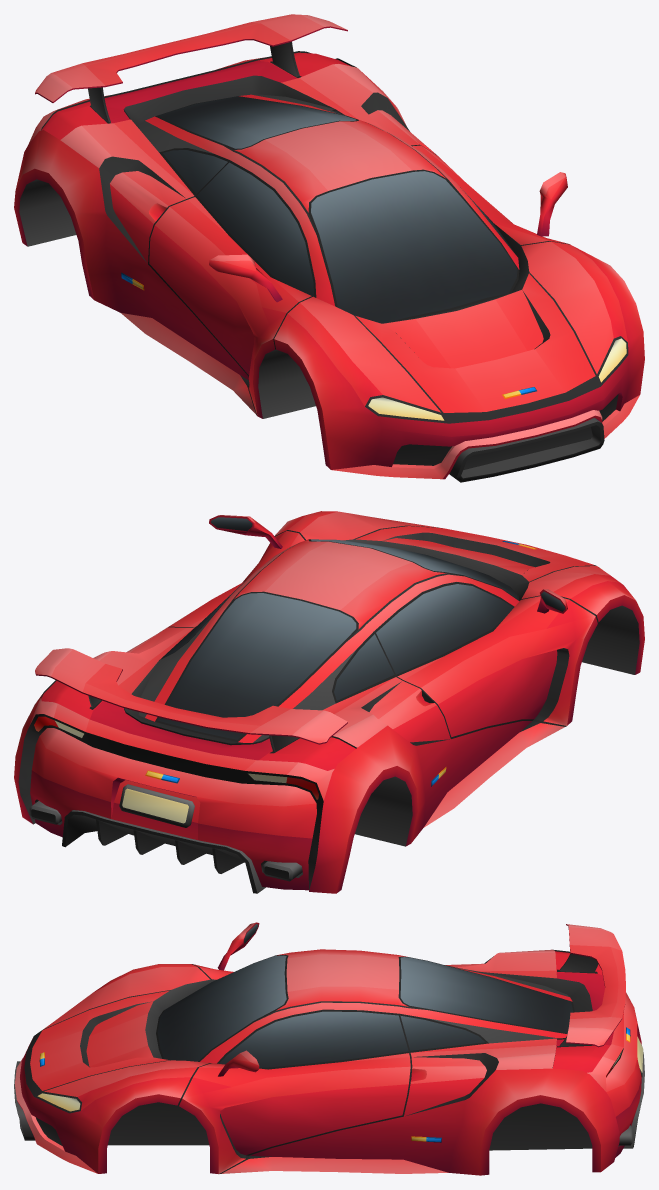
Rendered from Veh_Sports_01.fbx.
3 views of the same model, one above another, from view 1: azimuth 30°, elevation 25°; view 2: azimuth 150°, elevation 25°; view 3: azimuth 270°, elevation 25° (orthographic). The views are drawn at different scales.
Visible parts, largest first — view 1: Veh_Sports_01; view 2: Veh_Sports_01; view 3: Veh_Sports_01.
Boxes of the visible parts, bbox=[...] form: Veh_Sports_01: bbox=[14, 14, 644, 482]; Veh_Sports_01: bbox=[14, 511, 644, 893]; Veh_Sports_01: bbox=[14, 922, 644, 1175].
Size of the model in its own units: 92.45 by 43.46 by 172.
